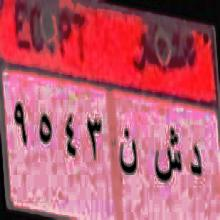3: (84, 109, 102, 169)
4: (62, 106, 79, 167)
5: (36, 106, 56, 158)
9: (12, 98, 30, 160)
daal: (187, 132, 204, 190)
noon: (117, 123, 139, 184)
sheen: (154, 122, 184, 193)
